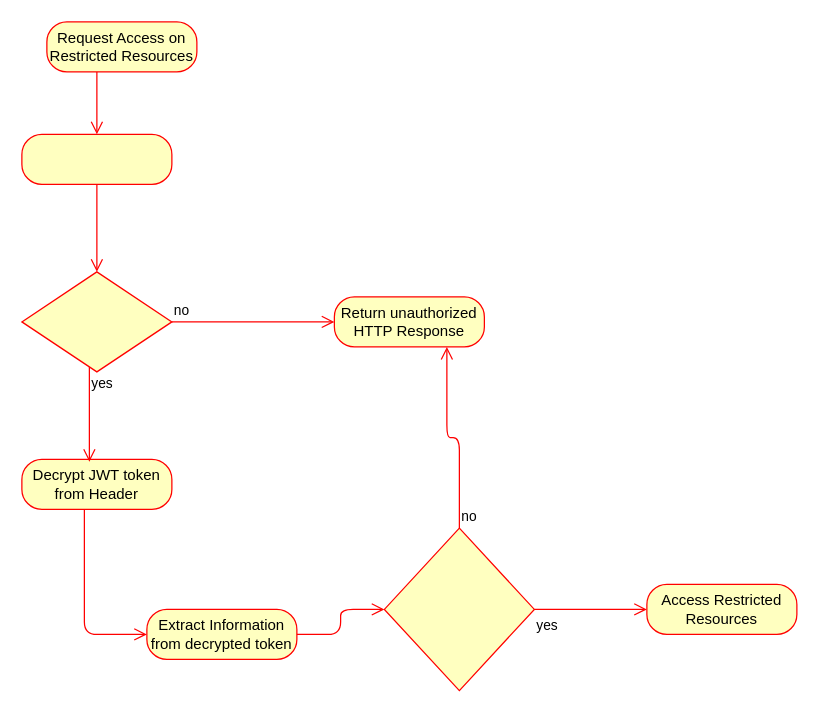
Some shapes in this 819 by 713 pixel diagram are drawn without their labels. The shapes that lost their labels are listed below. From the top down, each one's centre as x and y in pixels, then its label:
At pixel 96 158: "Get JWT Token From Header".
At pixel 96 321: "Valid JWT token?".
At pixel 458 609: "Access permitted by Role?".
